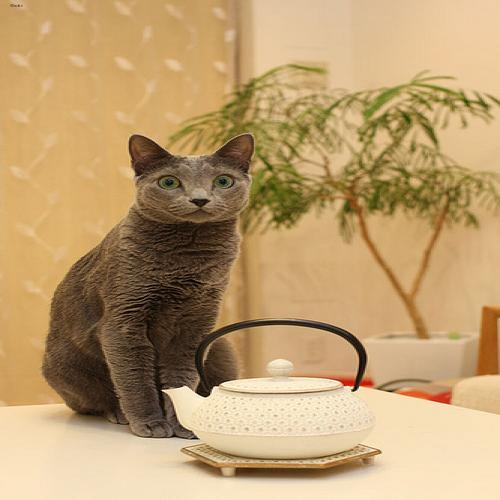rblue: (120, 126, 264, 233)
